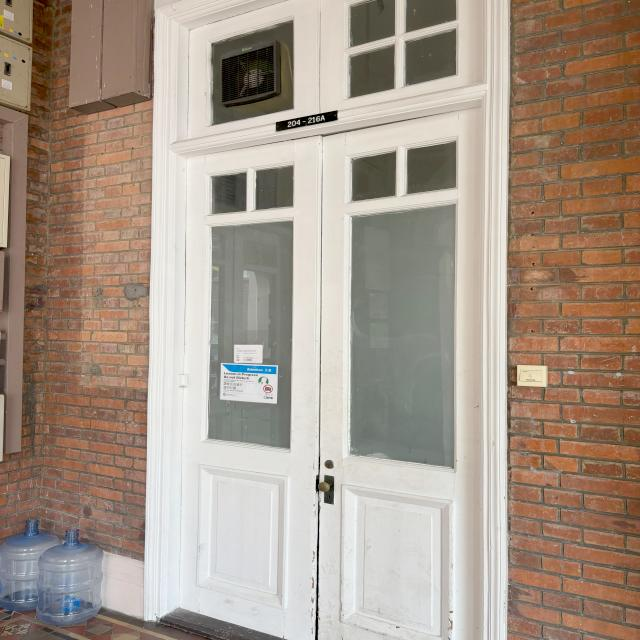MB204_roomNumber: (271, 104, 340, 138)
